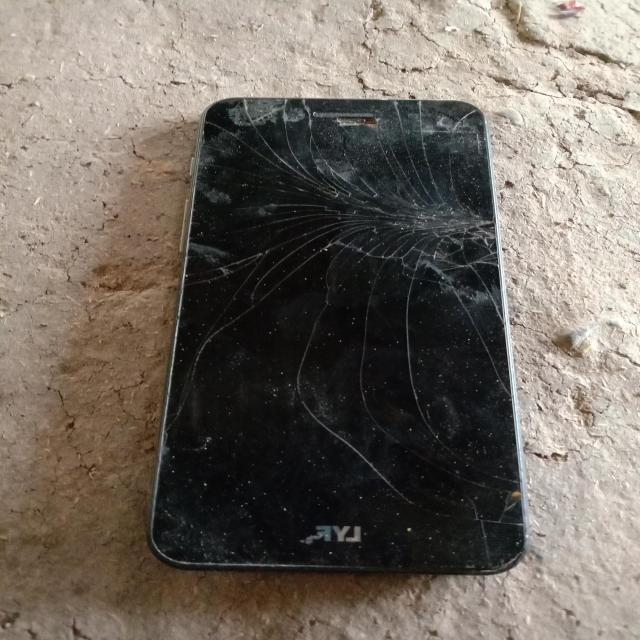mobile: (129, 43, 527, 605)
